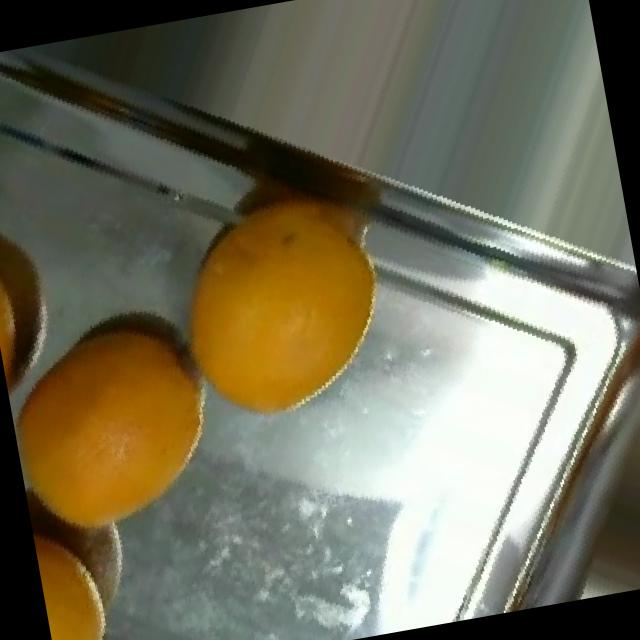Fruit: (0, 202, 81, 417), (30, 506, 133, 640)
